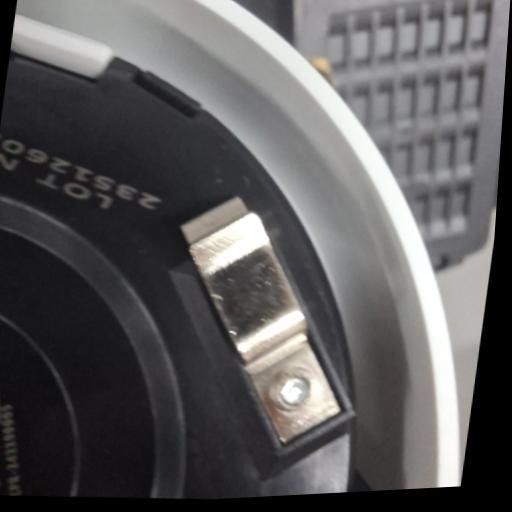yayli: (151, 188, 372, 458)
